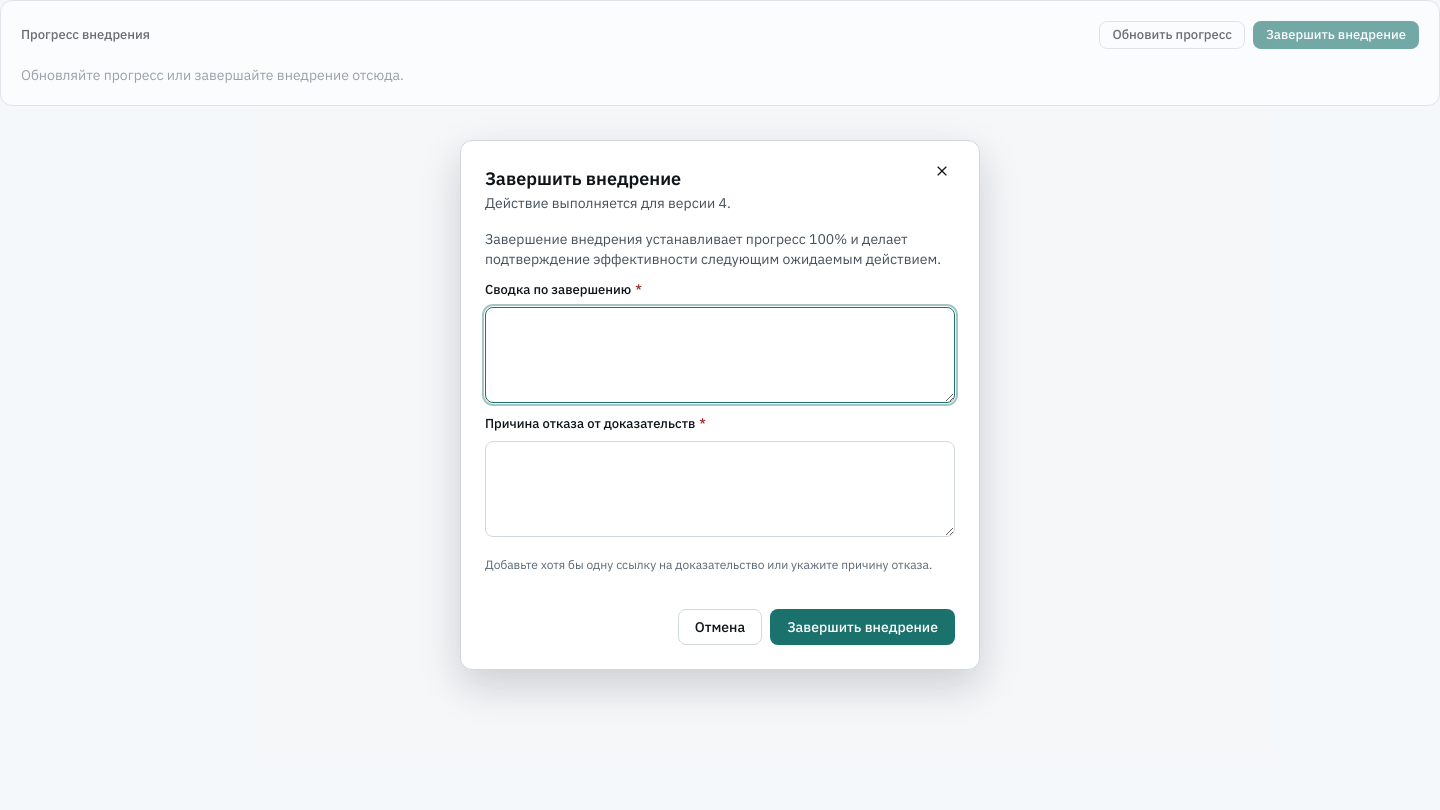
ImplementationProgressSection › requires the evidence waiver reason exactly when evidence is empty
The image size is (1440, 810).
Expected: the text box labelled "Причина отказа от доказательств*" is shown, [485,441,955,537]
In the text box labelled "Сводка по завершению*": (720,355) [485,307,955,403], type "Guarding installed and verified in the field"
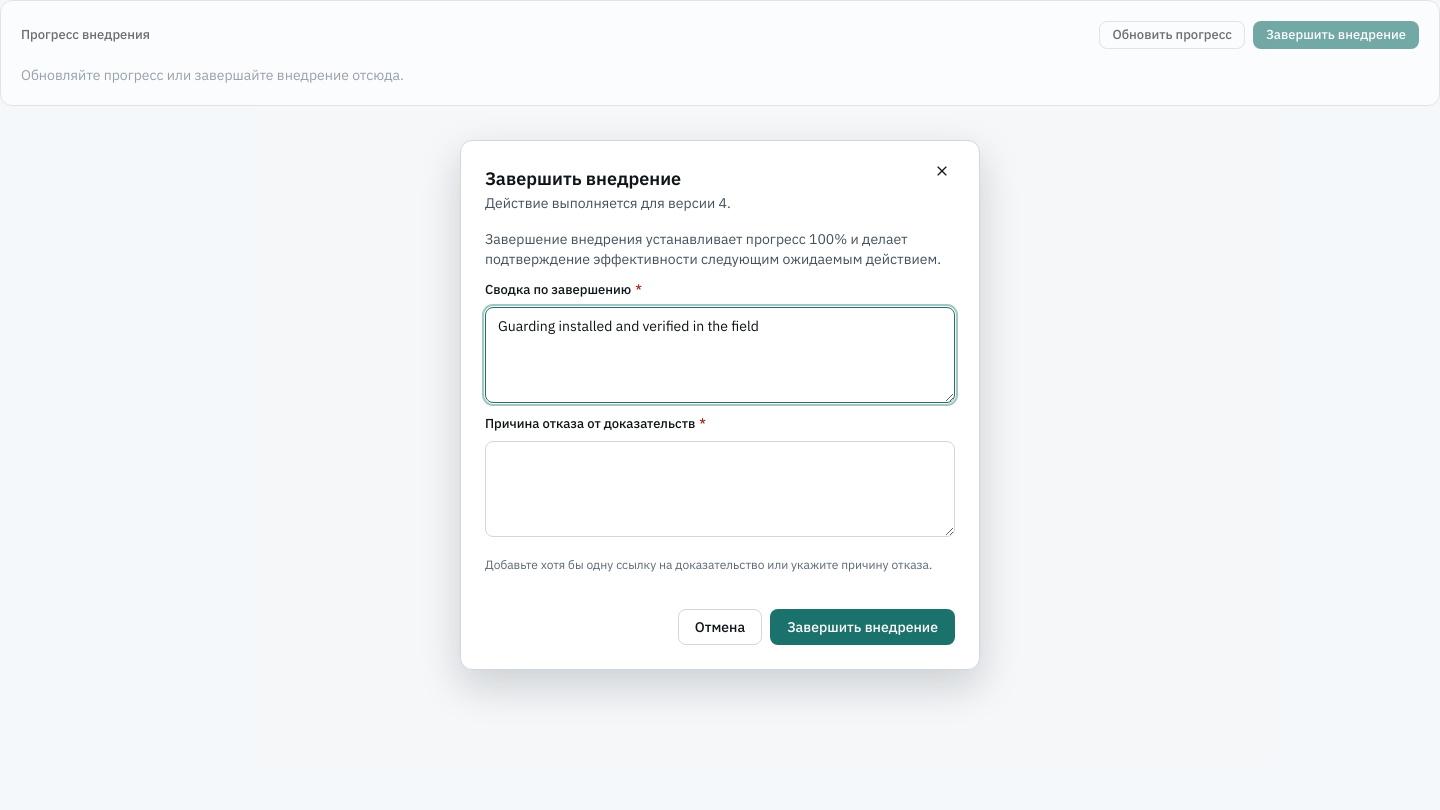
Click the button "Завершить внедрение": (863,627) [770,609,955,645]
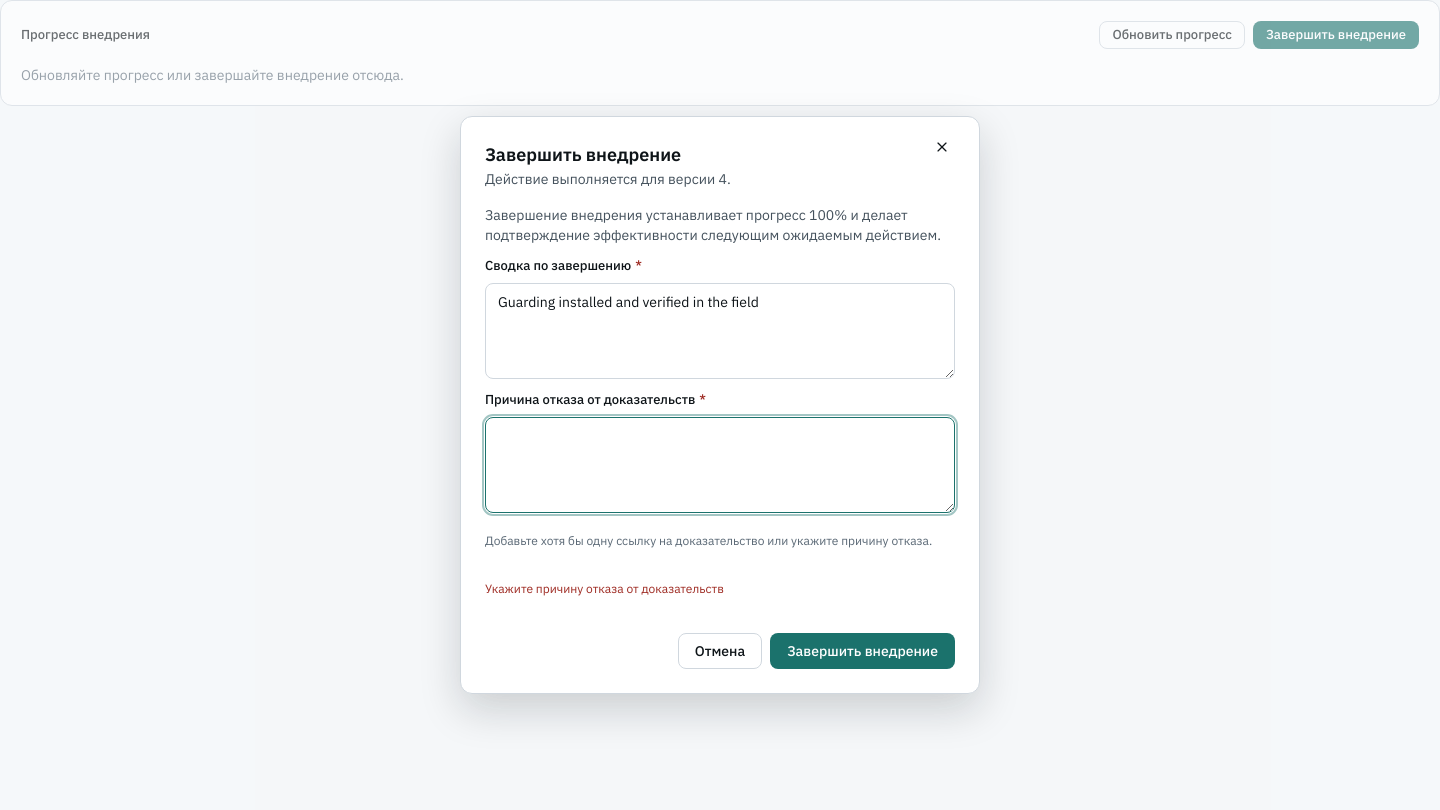
Expected: the text "Укажите причину отказа от доказательств" is shown, [485,581,724,596]
